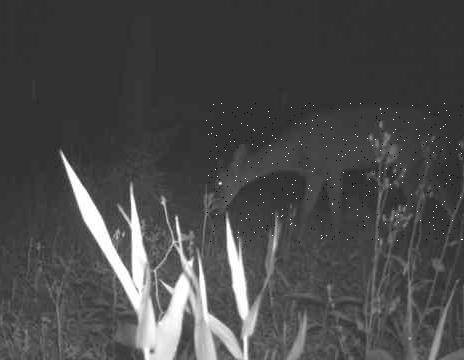Deer: (206, 103, 464, 243)
